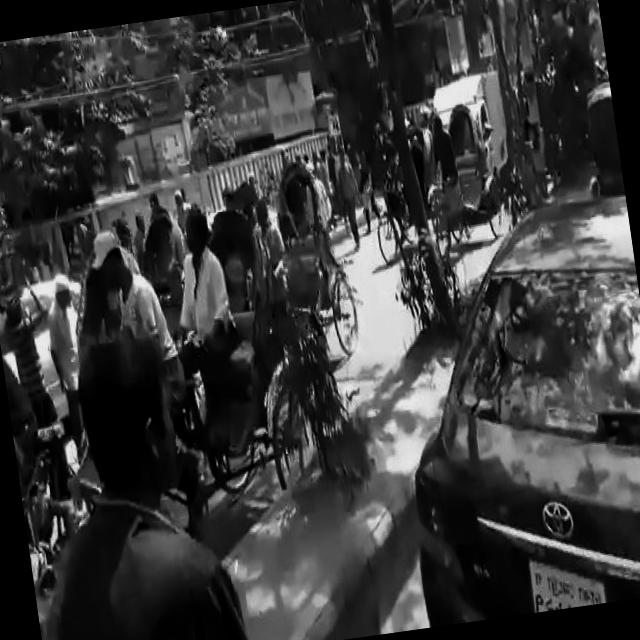car: (365, 170, 640, 627)
motorcycle: (110, 188, 324, 518), (0, 229, 193, 590), (247, 149, 366, 368), (414, 94, 509, 257), (135, 200, 199, 343), (574, 75, 624, 198)
truck: (426, 62, 520, 215)
